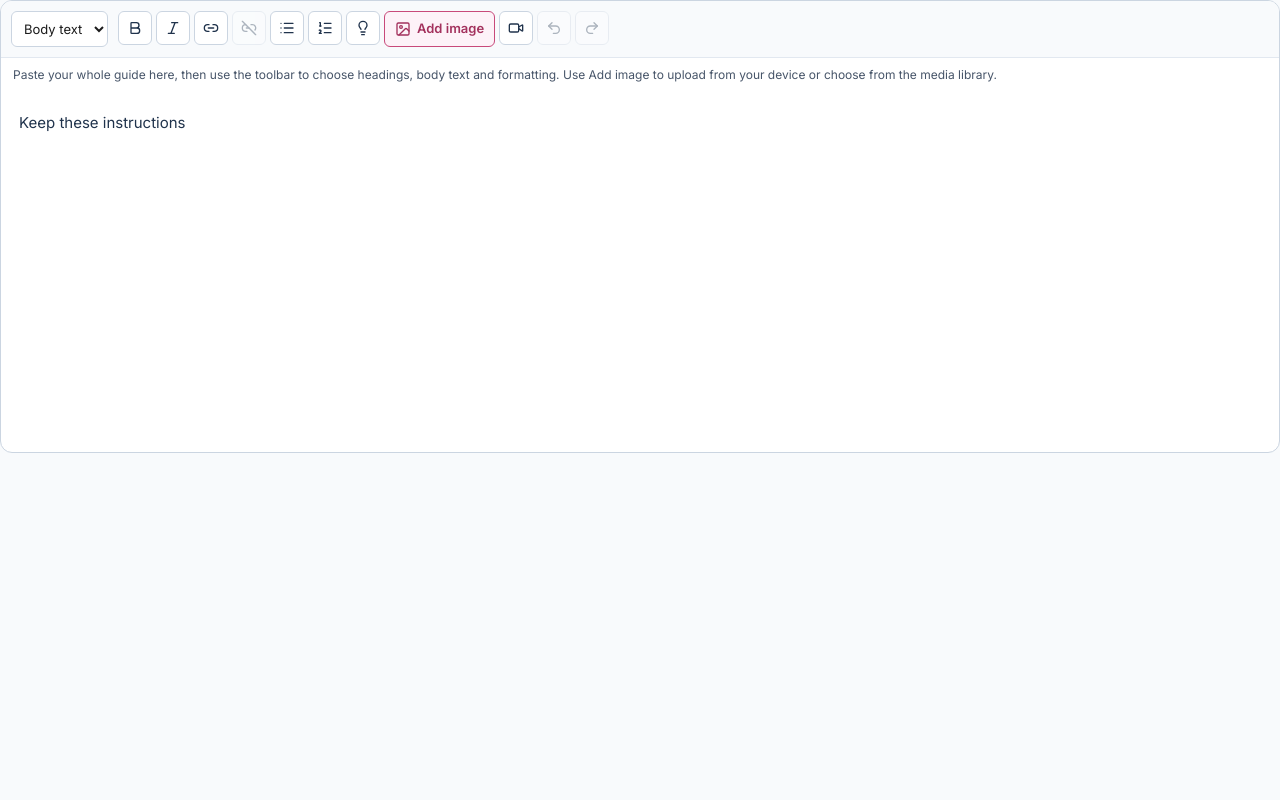
guide formatting controls › shows a labelled Add image action and cancelling leaves the guide unchanged
The width and height of the screenshot is (1280, 800).
What coordinates should you click on to do the following:
click the button "Add image"
I would click on:
 (440, 29)
Its box is [384,11,495,47].
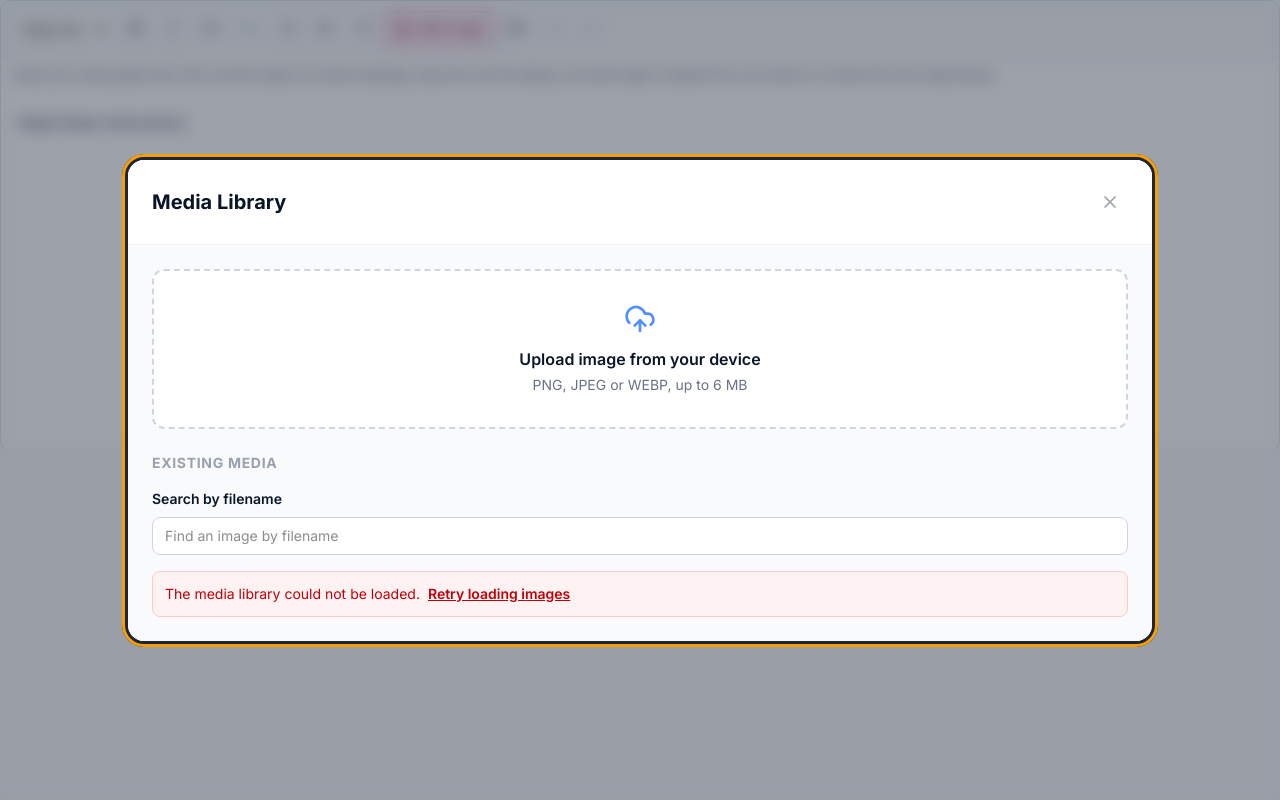
Expected: the dialog "Media Library" is shown, [128,160,1152,640]
What coordinates should you click on to do the following:
click the button named "Close media library"
I would click on:
 (1110, 202)
Its box is [1092,184,1128,220].
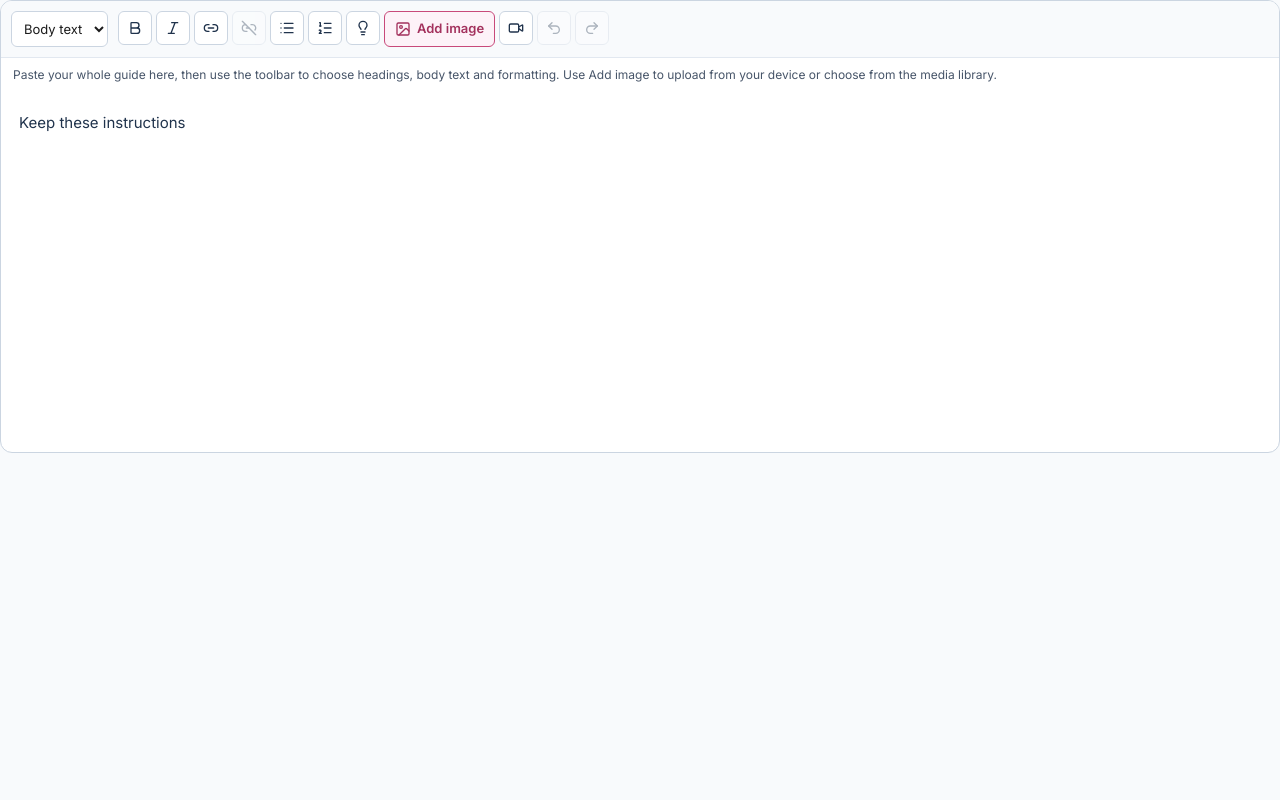
Expected: the field named "Guide content" reads "Keep these instructions", [19,113,186,132]
Expected: the dialog is gone
